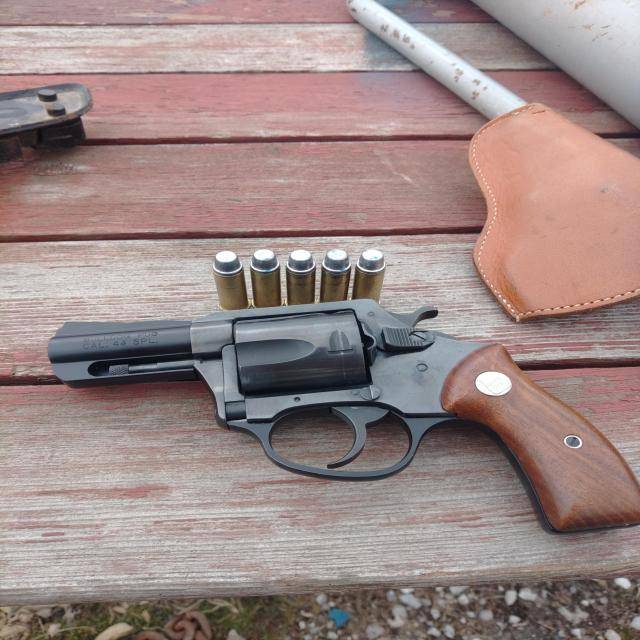Gun: (59, 279, 640, 532)
